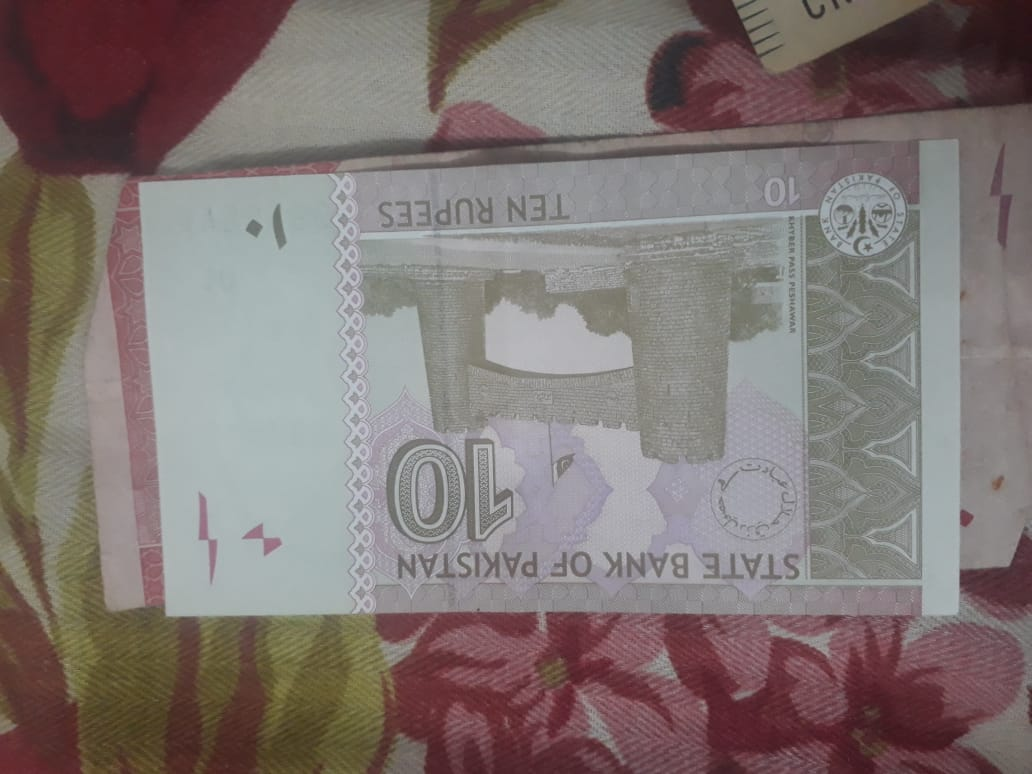10 rupee: (159, 142, 957, 622)
